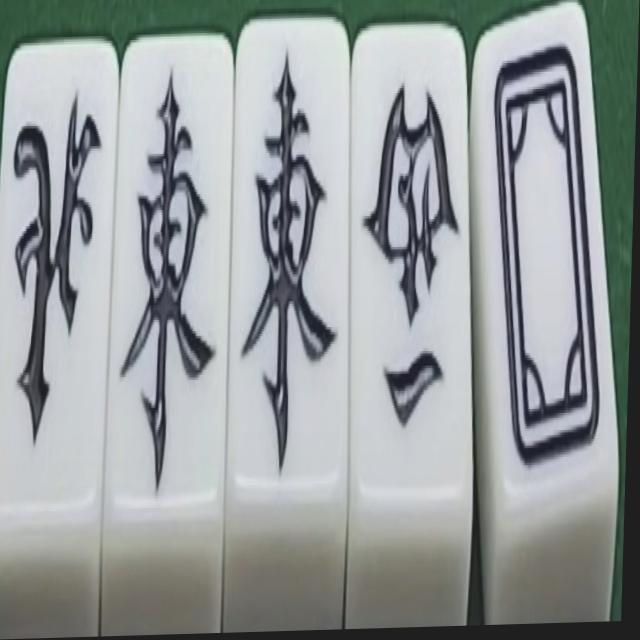bai: (481, 36, 615, 480)
east: (235, 45, 347, 477), (114, 64, 227, 490)
north: (3, 90, 105, 451)
west: (354, 74, 468, 479)
